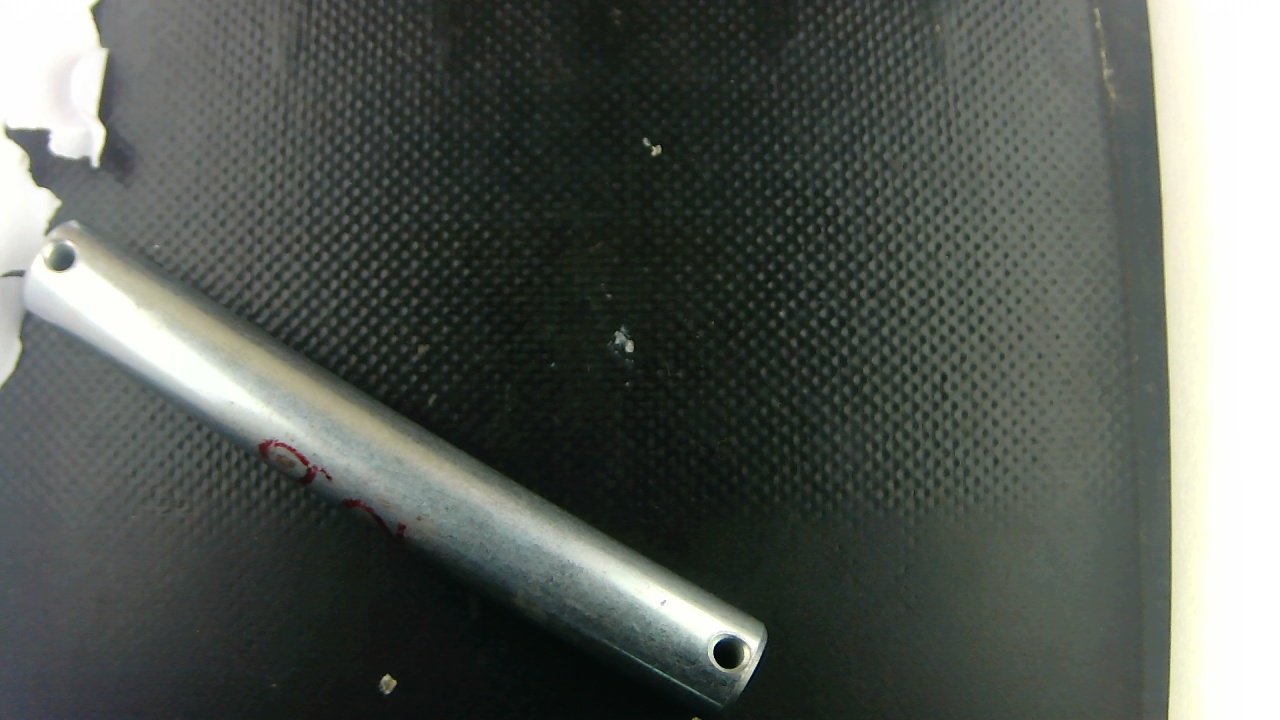rust_pin: (271, 447, 308, 480)
